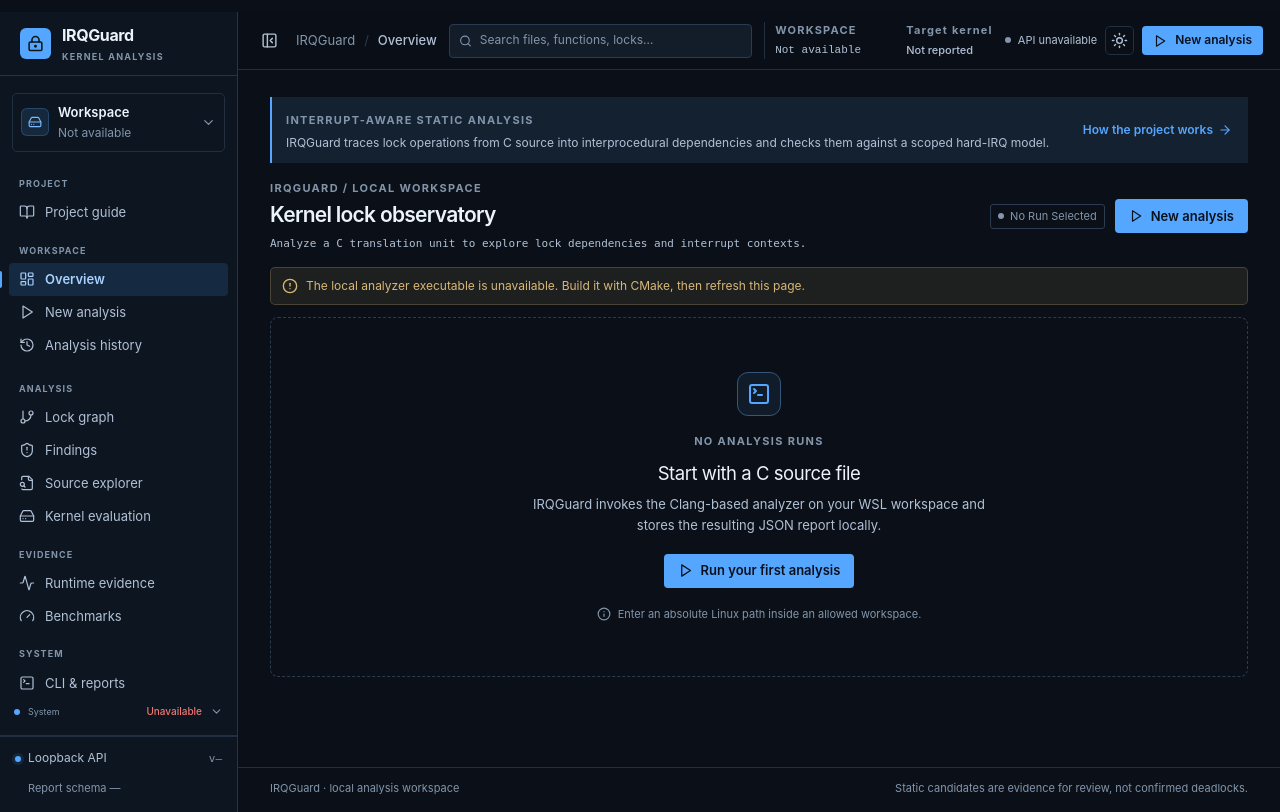
Test case: IRQGuard workspace states › shows report functions and syntax-colored source with exact line numbers
Click the button "Source explorer" at (118, 483), box [9,466,228,500]
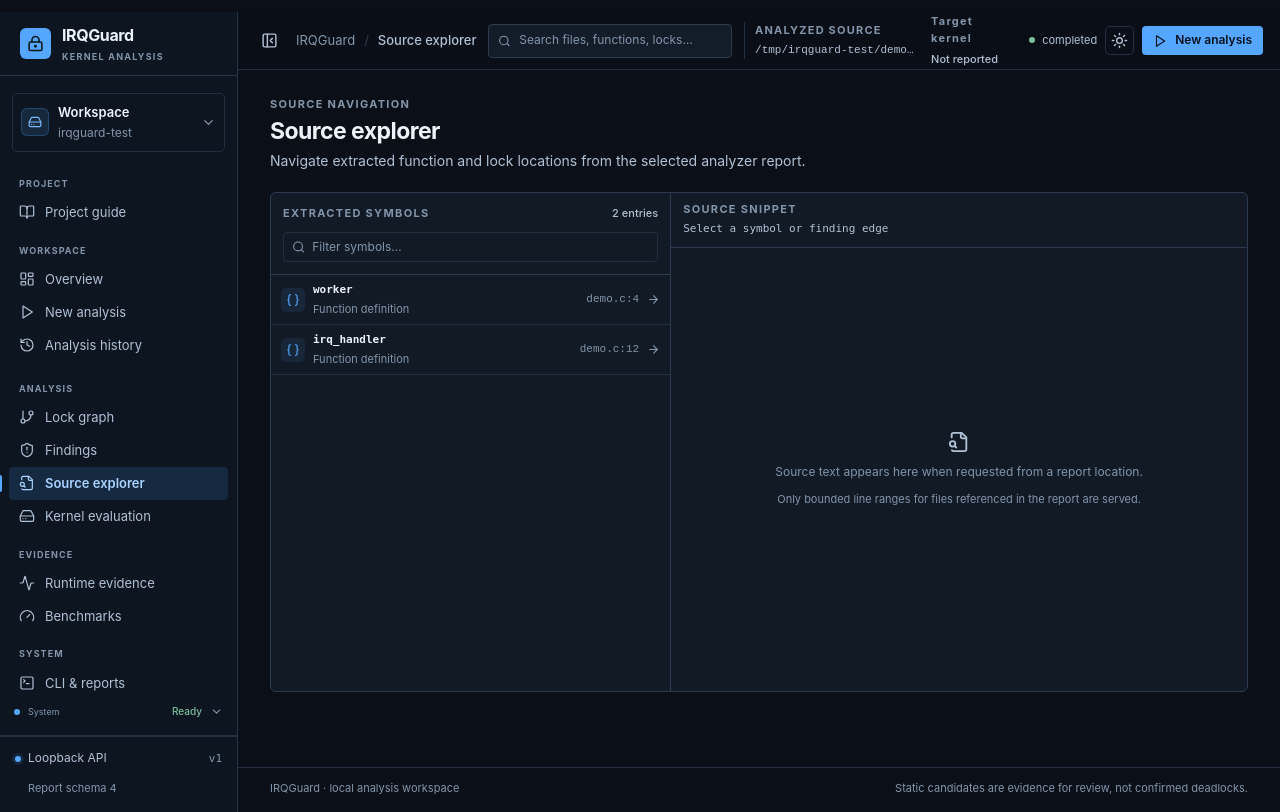
Click the button "worker Function definition demo.c:4" at (333, 290), box [271,275,670,325]
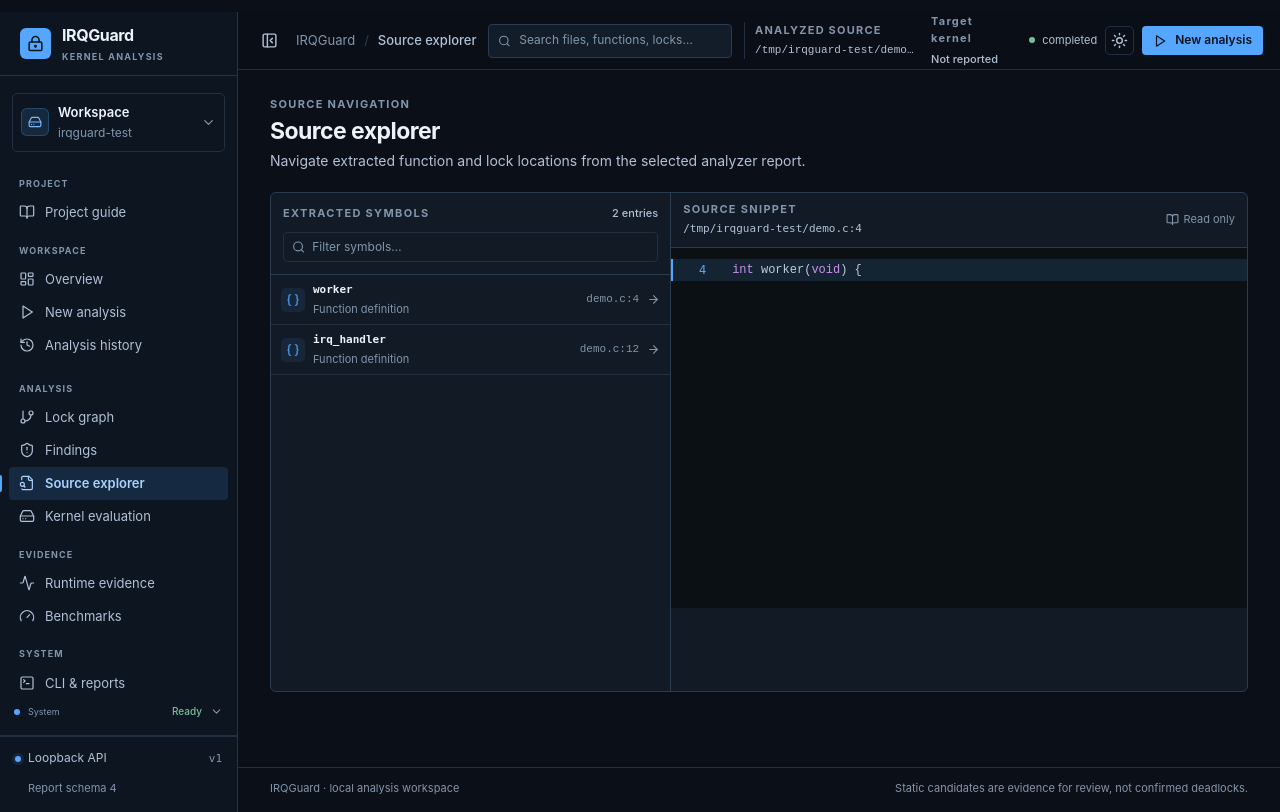
Expected: the element named "Source at line 4" is shown, [671,248,1247,608]
Expected: the text "int" is shown, [732,262,754,276]
Expected: the text "4" is shown, [699,262,706,276]
